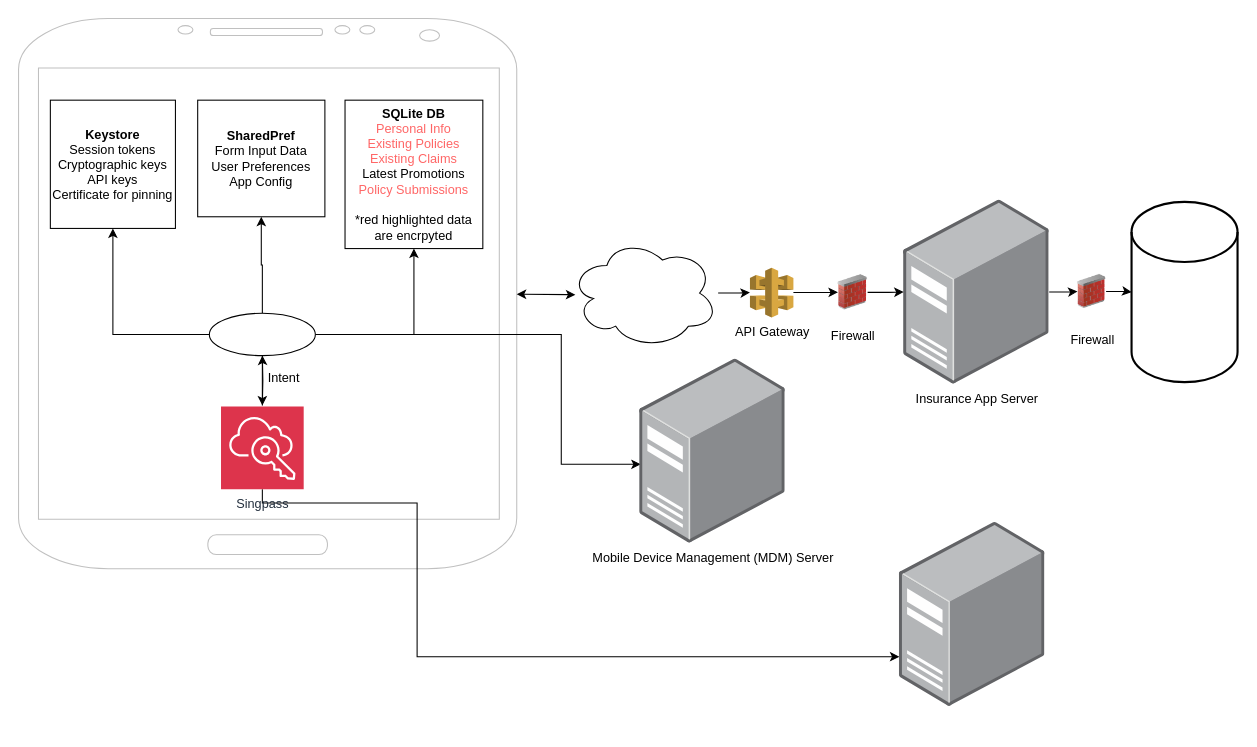
The diagram is 1257 pixels wide and 747 high, and some of its shapes have lost their labels. Each missing label, with the box of its shape:
Android Phone: (17, 17, 517, 569)
Cellular network (HTTPS only): (569, 237, 718, 348)
InsuranceApp: (208, 312, 315, 356)
MongoDB: (1130, 200, 1238, 383)
Singpass App Server: (899, 522, 1044, 706)
